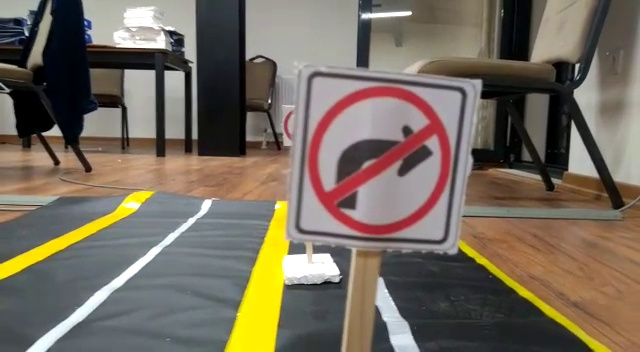saga_donulmez: (308, 78, 448, 238)
